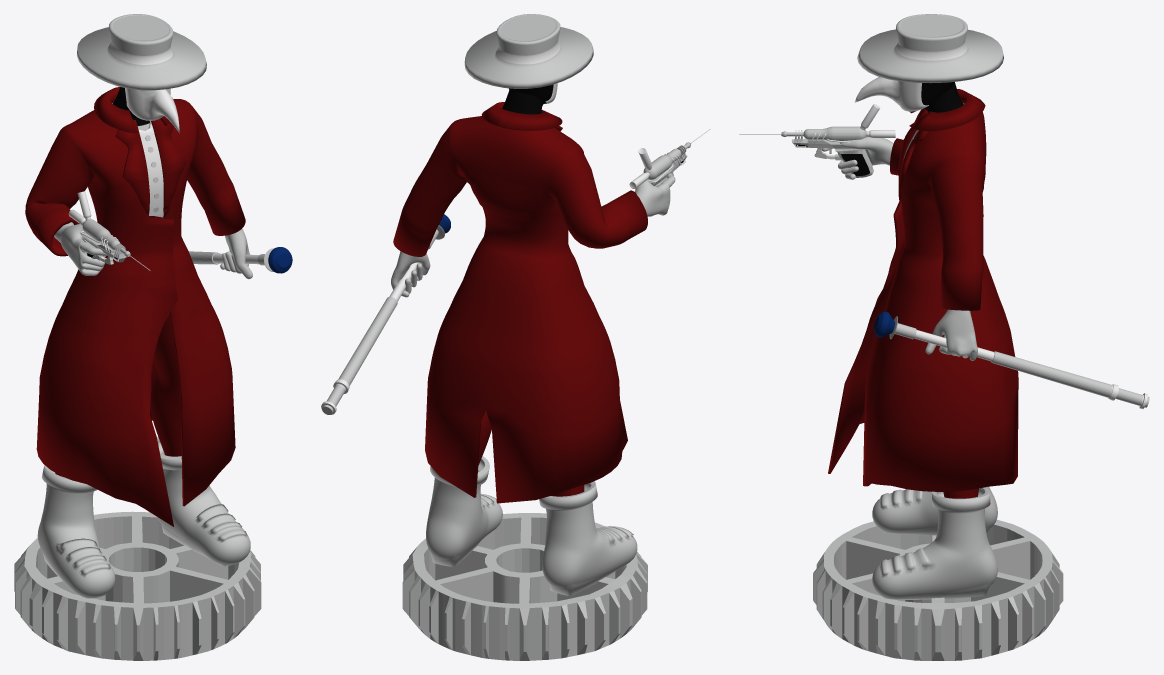
The model's file is SteelBishopPiece.fbx.
3 renders of one model, left to right at view 1: azimuth 30°, elevation 25°; view 2: azimuth 150°, elevation 25°; view 3: azimuth 270°, elevation 25°, orthographic.
Visible parts, largest first — view 1: SteelBishopPiece; view 2: SteelBishopPiece; view 3: SteelBishopPiece.
Boxes of the visible parts, box(x1,y1,x2,y2) form: SteelBishopPiece: box(14, 14, 292, 660); SteelBishopPiece: box(321, 14, 710, 660); SteelBishopPiece: box(739, 14, 1149, 660).
Bounding box in the file's own units: 95.02 × 229 × 145.
